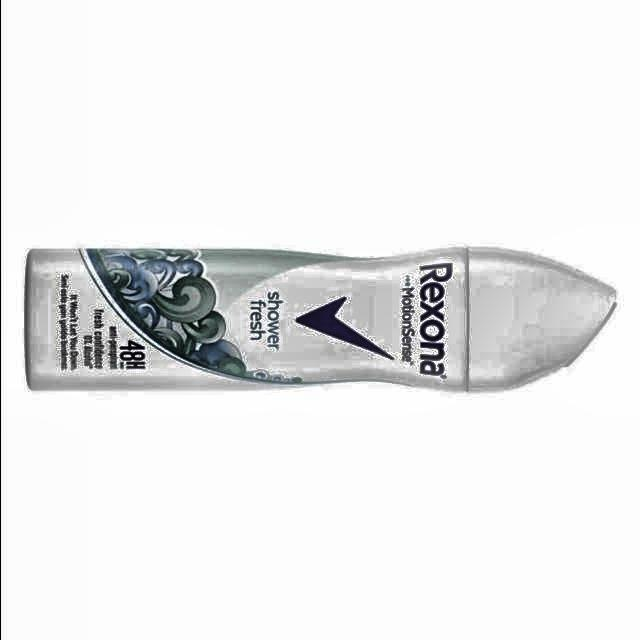metal: (20, 244, 621, 398)
